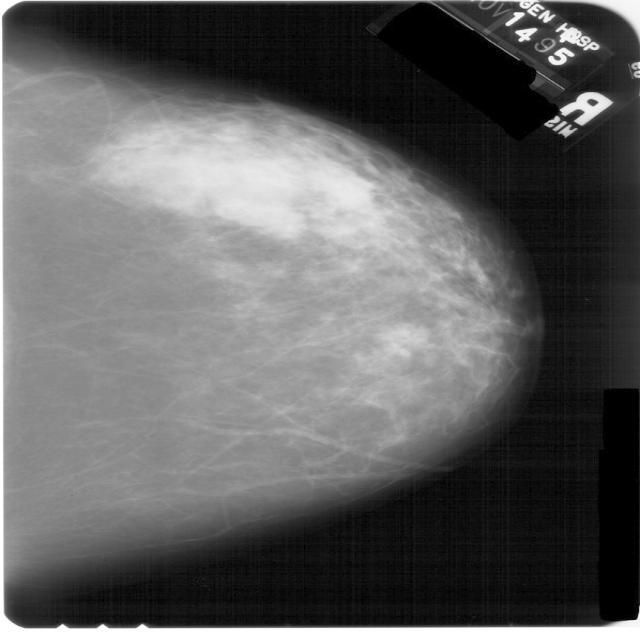tumour: (374, 321, 434, 357)
